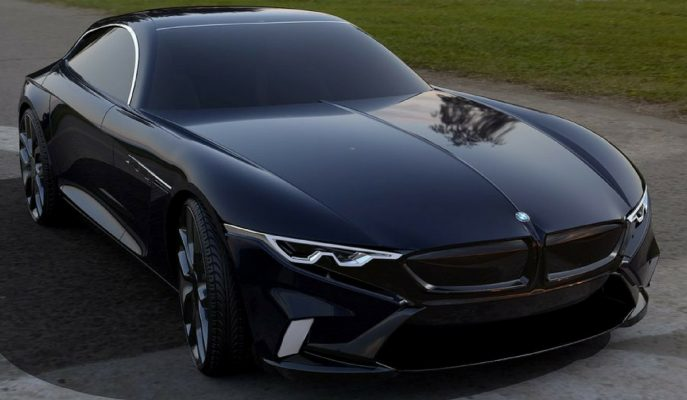car: (13, 5, 665, 361)
